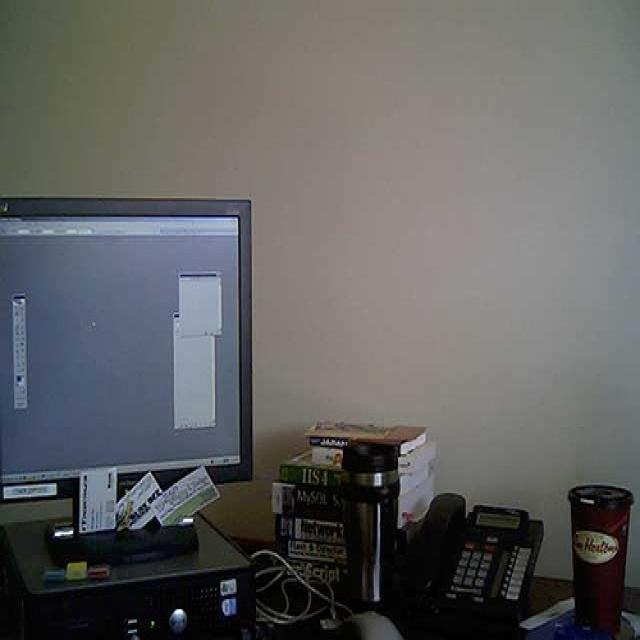tvmonitor: (1, 196, 257, 556)
